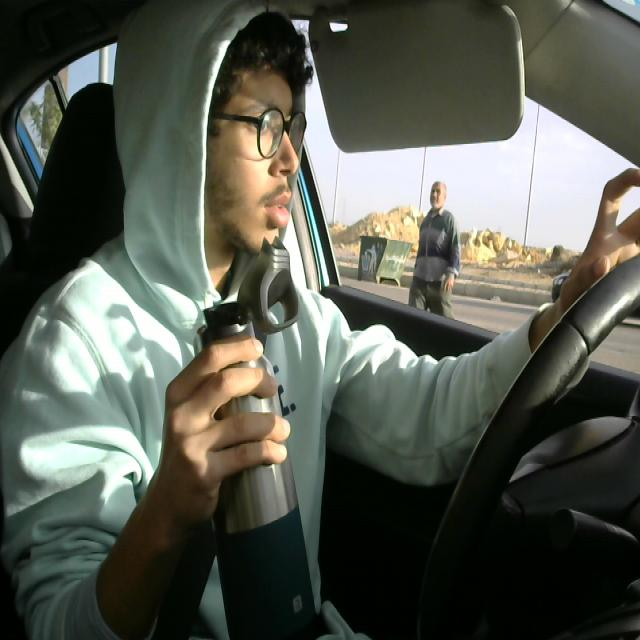drinking: (174, 237, 315, 638)
